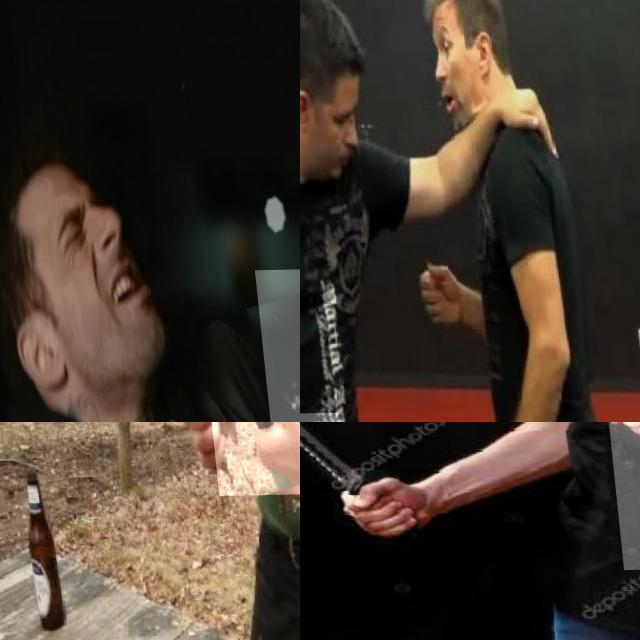-: (197, 422, 300, 513)
